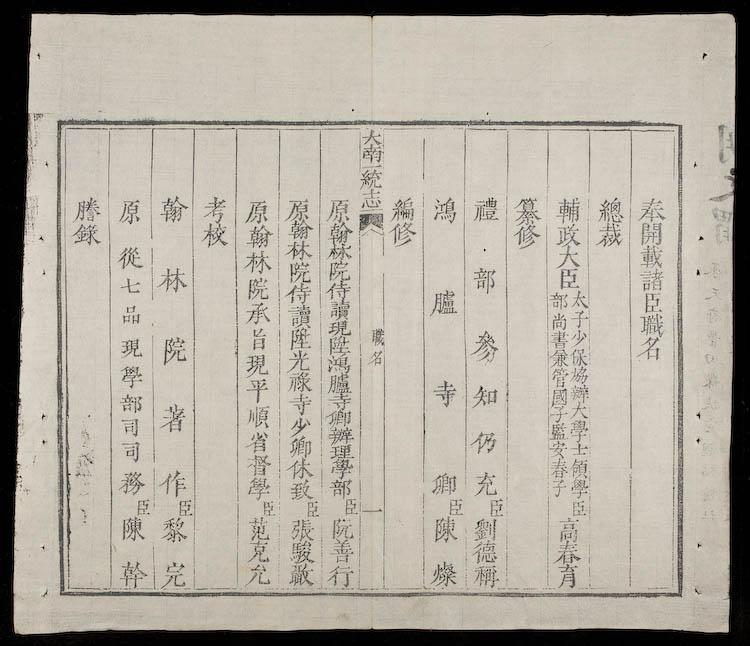c: (471, 330, 500, 362), (117, 558, 149, 587), (159, 402, 188, 433), (157, 193, 188, 222), (159, 334, 188, 364), (429, 287, 459, 316), (512, 195, 541, 224), (160, 558, 188, 588), (159, 468, 189, 496), (471, 195, 501, 223), (157, 265, 188, 292), (431, 378, 459, 407), (430, 195, 459, 223), (429, 559, 459, 586), (72, 195, 102, 222), (595, 195, 625, 222), (158, 516, 189, 542), (431, 515, 460, 542), (472, 469, 501, 496), (554, 195, 583, 222), (199, 221, 229, 247), (594, 223, 625, 248), (242, 249, 273, 274), (70, 222, 102, 246), (471, 265, 498, 293), (430, 470, 460, 495), (637, 196, 667, 221), (201, 194, 228, 221), (244, 403, 272, 429), (471, 383, 500, 408), (117, 469, 146, 494), (286, 562, 316, 586), (325, 564, 356, 587), (117, 197, 143, 224), (244, 198, 271, 224), (555, 516, 582, 542), (390, 195, 417, 221), (119, 516, 147, 541), (117, 363, 145, 388), (116, 244, 144, 269), (553, 563, 581, 588), (637, 336, 665, 361), (470, 429, 498, 454), (637, 244, 666, 268), (512, 224, 541, 248), (637, 221, 666, 245), (243, 301, 272, 325), (244, 562, 273, 586), (244, 224, 273, 248), (244, 377, 271, 402), (246, 515, 273, 540), (285, 197, 313, 221), (389, 222, 417, 246), (286, 304, 314, 328), (552, 542, 584, 563), (287, 517, 316, 540), (244, 453, 273, 476), (637, 313, 666, 336), (287, 540, 316, 563), (637, 269, 667, 291), (326, 197, 352, 222), (117, 335, 144, 359), (243, 352, 270, 376), (244, 276, 271, 300), (554, 224, 582, 247), (471, 540, 499, 563), (471, 564, 500, 586), (245, 476, 274, 498), (472, 516, 498, 540), (245, 430, 272, 453), (326, 222, 353, 245), (286, 349, 313, 372), (286, 260, 313, 283), (328, 539, 355, 562), (638, 291, 666, 313), (286, 457, 315, 478), (287, 327, 313, 350), (286, 371, 313, 393), (286, 393, 313, 415), (118, 392, 145, 414), (245, 540, 272, 562), (554, 247, 582, 268), (325, 373, 353, 394), (287, 479, 315, 500), (285, 283, 313, 304), (285, 239, 313, 260), (247, 326, 270, 351), (358, 168, 384, 190), (287, 435, 313, 457), (329, 517, 355, 539), (326, 260, 353, 281), (326, 299, 353, 320), (555, 268, 582, 289), (325, 280, 353, 300), (119, 302, 143, 325), (326, 426, 355, 445), (119, 440, 143, 462), (118, 275, 143, 296), (358, 190, 384, 210), (328, 477, 354, 497), (326, 335, 352, 355), (286, 220, 313, 239), (118, 416, 142, 437), (326, 408, 354, 426), (288, 416, 313, 436), (326, 354, 352, 373), (325, 244, 354, 261), (360, 145, 384, 165), (328, 459, 355, 476), (565, 498, 588, 517), (327, 394, 354, 410), (326, 320, 353, 336), (327, 444, 356, 458), (549, 458, 569, 478), (550, 367, 570, 387), (570, 384, 591, 403), (549, 291, 570, 310), (569, 457, 589, 476), (486, 497, 505, 517), (569, 420, 589, 439), (550, 348, 570, 367), (446, 496, 465, 516), (569, 289, 588, 309), (368, 326, 387, 346), (549, 330, 570, 348), (361, 128, 383, 145), (569, 347, 588, 366), (550, 388, 569, 407), (549, 311, 568, 330), (569, 366, 589, 384), (569, 478, 589, 496), (550, 478, 568, 497), (549, 440, 568, 458), (570, 309, 588, 328), (569, 402, 589, 419), (550, 422, 568, 440), (257, 499, 276, 516), (367, 349, 384, 367), (550, 406, 568, 423), (134, 497, 151, 515), (570, 329, 588, 346), (176, 498, 193, 516), (303, 500, 320, 517), (343, 497, 359, 515), (570, 441, 589, 456)
